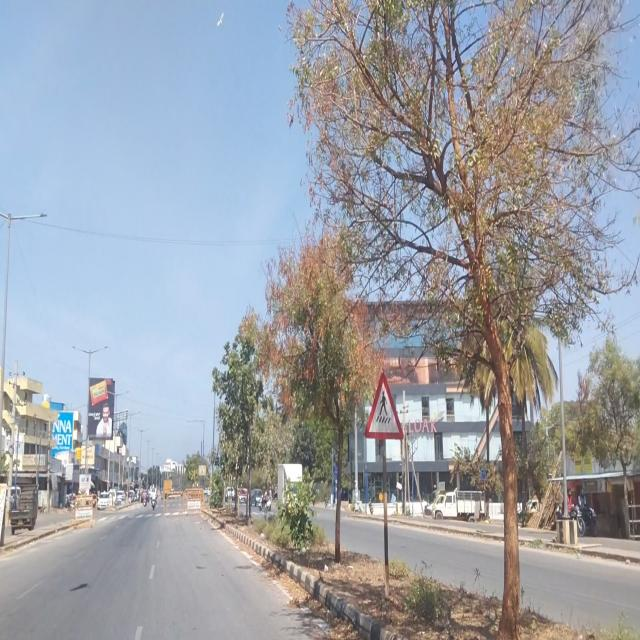bien_cam: (365, 372, 404, 438)
